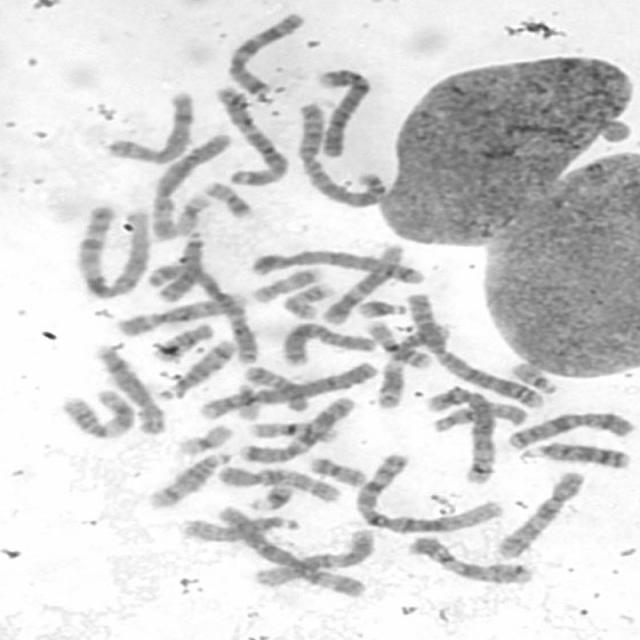A1: (350, 449, 505, 535), (71, 203, 153, 300)
A2: (399, 288, 545, 410), (292, 98, 388, 208)
A3: (142, 263, 260, 366), (212, 82, 290, 188)
B4: (196, 358, 383, 422), (312, 65, 375, 159)
B5: (423, 383, 497, 486), (245, 248, 426, 285)
C10: (492, 468, 590, 559), (216, 463, 342, 504)
C11: (374, 319, 457, 410), (56, 385, 139, 441)
C12: (250, 526, 375, 589), (318, 240, 404, 326)
C6: (213, 502, 369, 598), (147, 130, 236, 242)
C7: (238, 393, 358, 464), (220, 8, 306, 99)
C8: (102, 86, 196, 166), (90, 342, 169, 436)
C9: (111, 289, 248, 338), (403, 535, 536, 585)
D13: (152, 230, 207, 304), (514, 438, 634, 471)
D14: (143, 450, 232, 510), (156, 337, 239, 401)
D15: (425, 398, 530, 434), (180, 513, 300, 544)
E16: (361, 317, 433, 370), (244, 418, 340, 444)
E17: (247, 264, 324, 304), (278, 279, 336, 320)
E18: (240, 362, 311, 413), (151, 320, 214, 361)
F19: (173, 421, 233, 457), (172, 192, 212, 236)
F20: (199, 178, 255, 220), (305, 454, 368, 488)
G21: (245, 479, 296, 512), (354, 296, 409, 319)
G22: (506, 360, 560, 396), (234, 383, 263, 422)
X: (504, 408, 638, 450), (280, 322, 379, 367)
